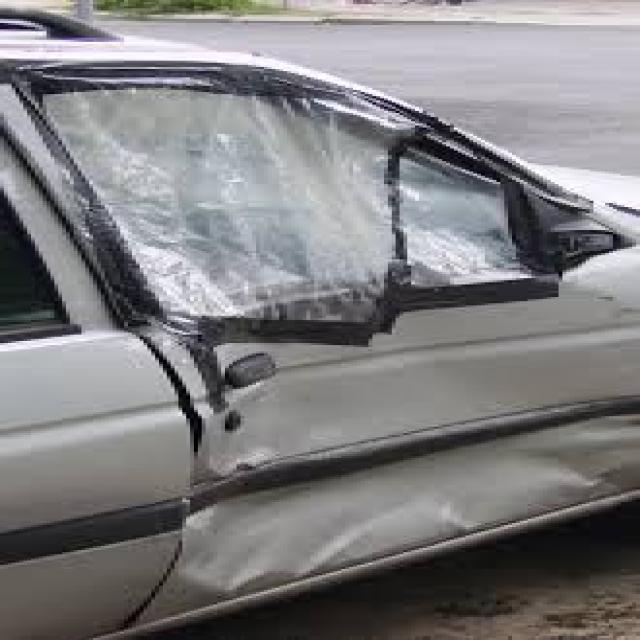severe: (4, 10, 640, 634)
